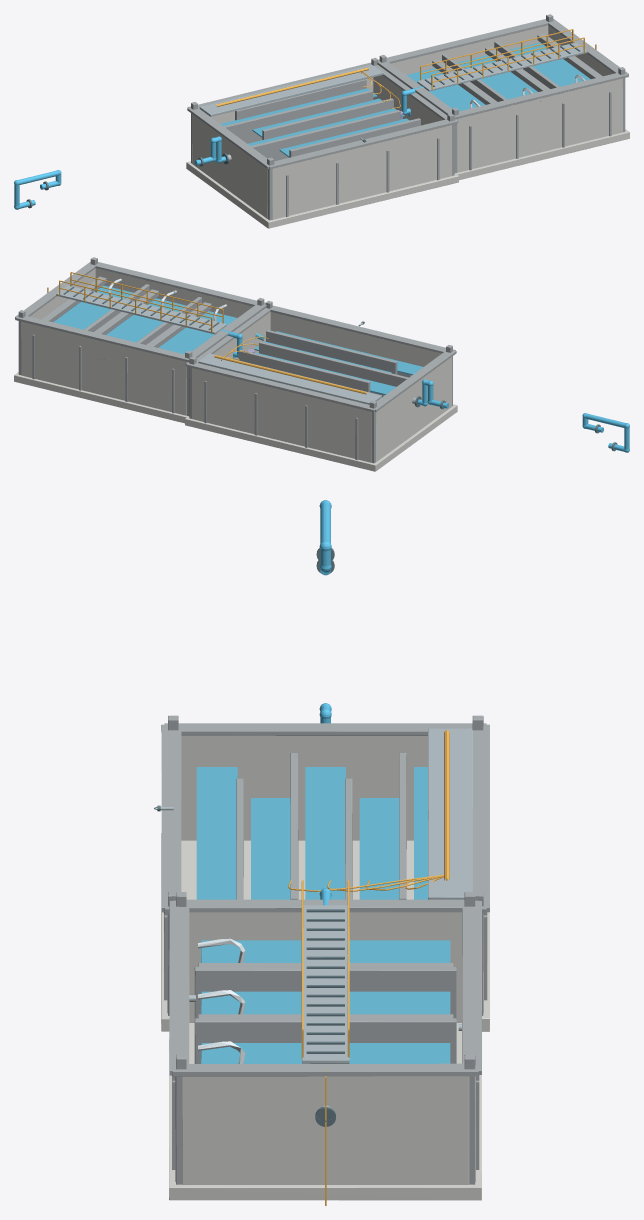
3 renders of one model, top to bottom at view 1: azimuth 30°, elevation 25°; view 2: azimuth 150°, elevation 25°; view 3: azimuth 270°, elevation 25°, orthographic. The views are drawn at different scales.
Parts seen in each view (by area): view 1: render-batch-7, render-batch-4, render-batch-2, render-batch-5, render-batch-9, render-batch-0, render-batch-1; view 2: render-batch-7, render-batch-4, render-batch-2, render-batch-5, render-batch-9, render-batch-0, render-batch-1; view 3: render-batch-7, render-batch-4, render-batch-2, render-batch-5, render-batch-9, render-batch-1, render-batch-0, render-batch-8.
Part boxes in pixels (x1=…): render-batch-7: x1=186, y1=25, x2=629, y2=228; render-batch-4: x1=187, y1=14, x2=628, y2=220; render-batch-2: x1=220, y1=42, x2=590, y2=157; render-batch-5: x1=199, y1=42, x2=587, y2=161; render-batch-9: x1=216, y1=29, x2=596, y2=108; render-batch-0: x1=14, y1=86, x2=428, y2=209; render-batch-1: x1=222, y1=43, x2=580, y2=164; render-batch-7: x1=14, y1=268, x2=457, y2=471; render-batch-4: x1=15, y1=257, x2=456, y2=463; render-batch-2: x1=53, y1=285, x2=423, y2=394; render-batch-5: x1=56, y1=285, x2=416, y2=404; render-batch-9: x1=47, y1=272, x2=366, y2=394; render-batch-0: x1=215, y1=329, x2=629, y2=452; render-batch-1: x1=63, y1=286, x2=421, y2=407; render-batch-7: x1=161, y1=736, x2=489, y2=1200; render-batch-4: x1=161, y1=715, x2=489, y2=1184; render-batch-2: x1=196, y1=767, x2=450, y2=1063; render-batch-5: x1=160, y1=728, x2=472, y2=1107; render-batch-9: x1=288, y1=730, x2=449, y2=1205; render-batch-1: x1=154, y1=805, x2=344, y2=1126; render-batch-0: x1=319, y1=500, x2=331, y2=905; render-batch-8: x1=198, y1=938, x2=245, y2=1063.
Bounding box in the file's own units: 42.26 × 5.52 × 10.52.
